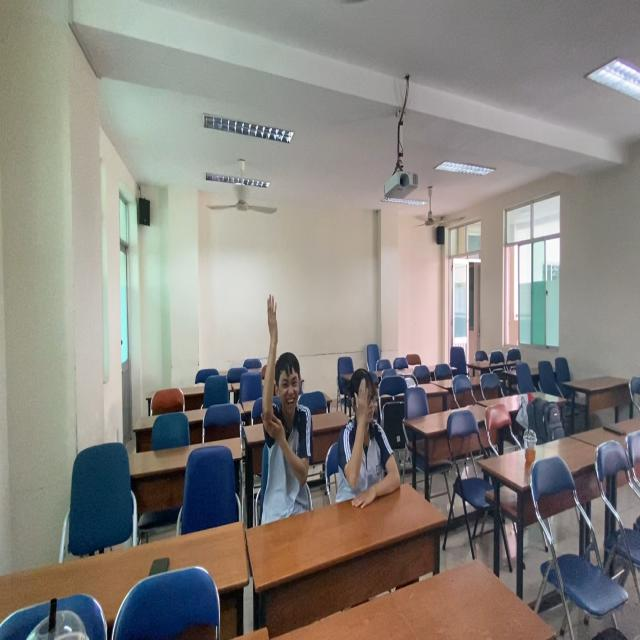raise_hand: (259, 293, 320, 516), (336, 365, 405, 521)
